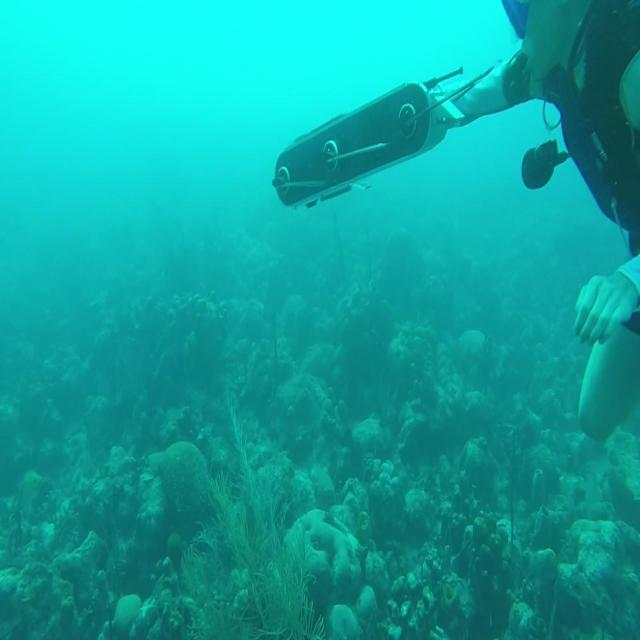human: (272, 0, 639, 441)
